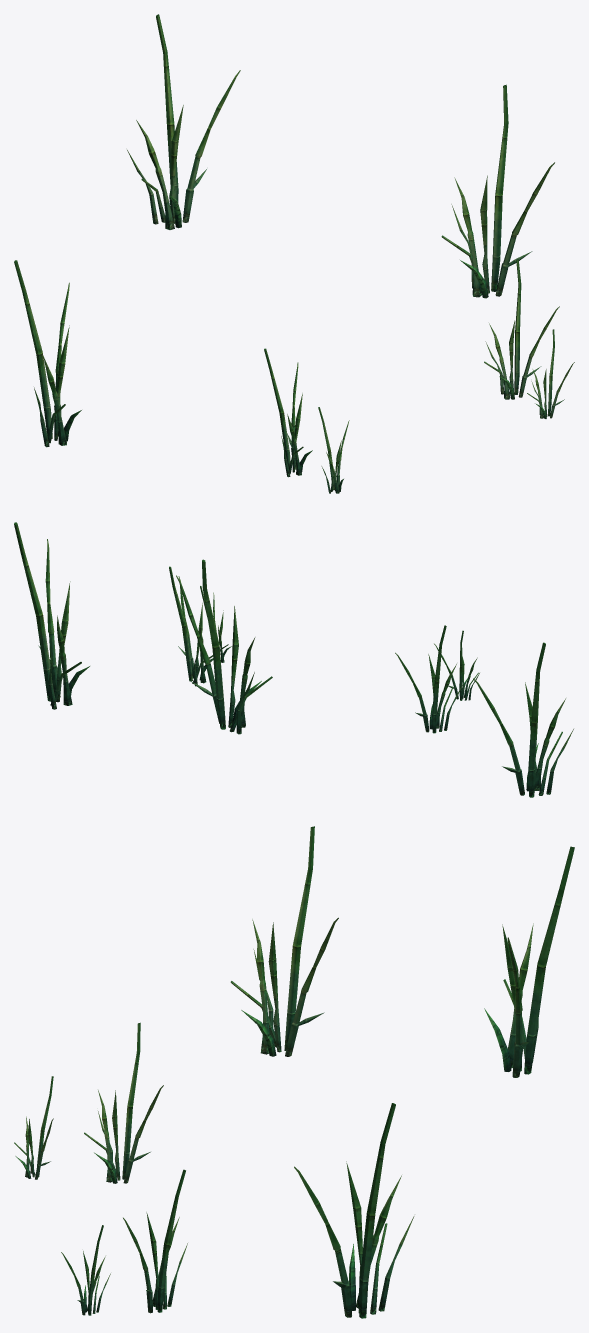
Rendered from Area_01_5.fbx.
The picture shows the model from 3 angles, top to bottom: view 1: azimuth 30°, elevation 25°; view 2: azimuth 150°, elevation 25°; view 3: azimuth 270°, elevation 25°; orthographic projection. The views are drawn at different scales.
Visible parts, largest first — view 1: Area_01_5; view 2: Area_01_5; view 3: Area_01_5.
Boxes of the visible parts, x1,y1,x2,y2 form: Area_01_5: (14,14,574,493); Area_01_5: (14,522,573,797); Area_01_5: (14,826,574,1318).
Size of the model in its own units: 5499 by 2978 by 4145.
